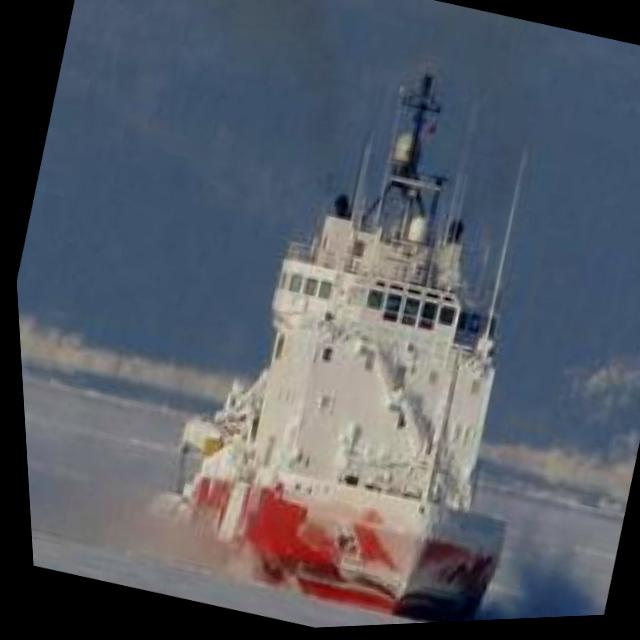ship2: (170, 75, 527, 626)
